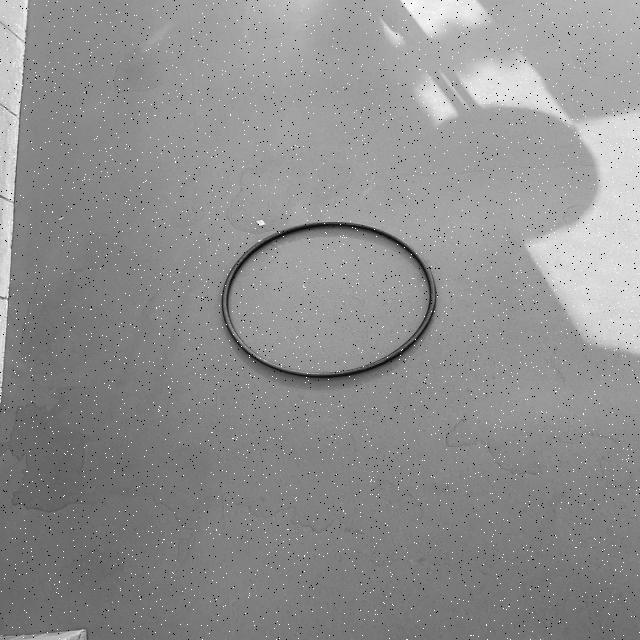Circle: (212, 215, 450, 385)
